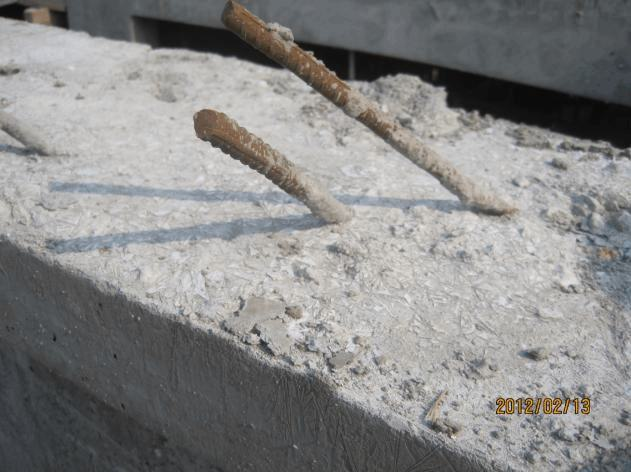Exposed reinforcement: (220, 1, 516, 214), (192, 107, 357, 227)
